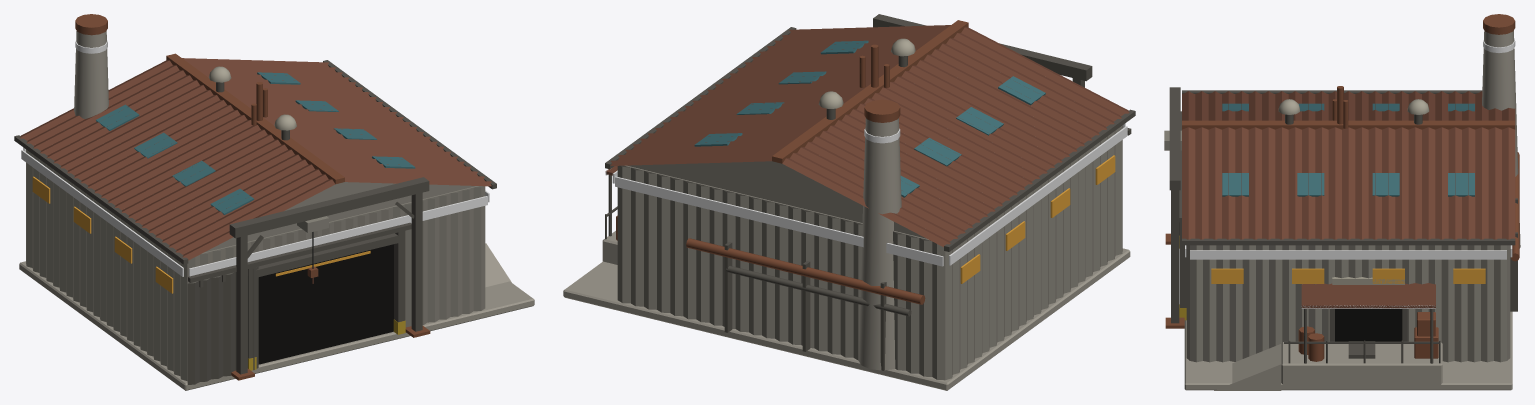
3 renders of one model, left to right at view 1: azimuth 30°, elevation 25°; view 2: azimuth 150°, elevation 25°; view 3: azimuth 270°, elevation 25°, orthographic. The views are drawn at different scales.
Visible parts, largest first — view 1: dweller_building_robotfactory; view 2: dweller_building_robotfactory; view 3: dweller_building_robotfactory.
Part boxes in pixels (box(x1,y1,x2,y2)): dweller_building_robotfactory: box(14, 14, 534, 390); dweller_building_robotfactory: box(563, 14, 1135, 390); dweller_building_robotfactory: box(1164, 14, 1520, 390).
Size of the model in its own units: 14.92 by 9.6 by 13.25.
